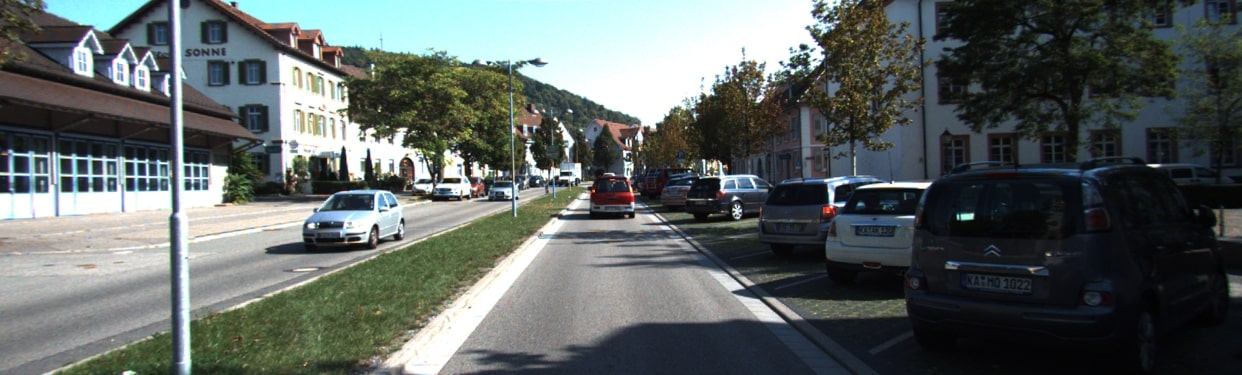car: (906, 169, 1194, 350), (814, 180, 929, 273), (750, 171, 851, 253), (308, 180, 400, 253), (687, 174, 776, 226), (587, 168, 637, 224), (659, 173, 693, 213), (429, 177, 468, 204), (488, 180, 513, 208), (558, 167, 577, 187)
